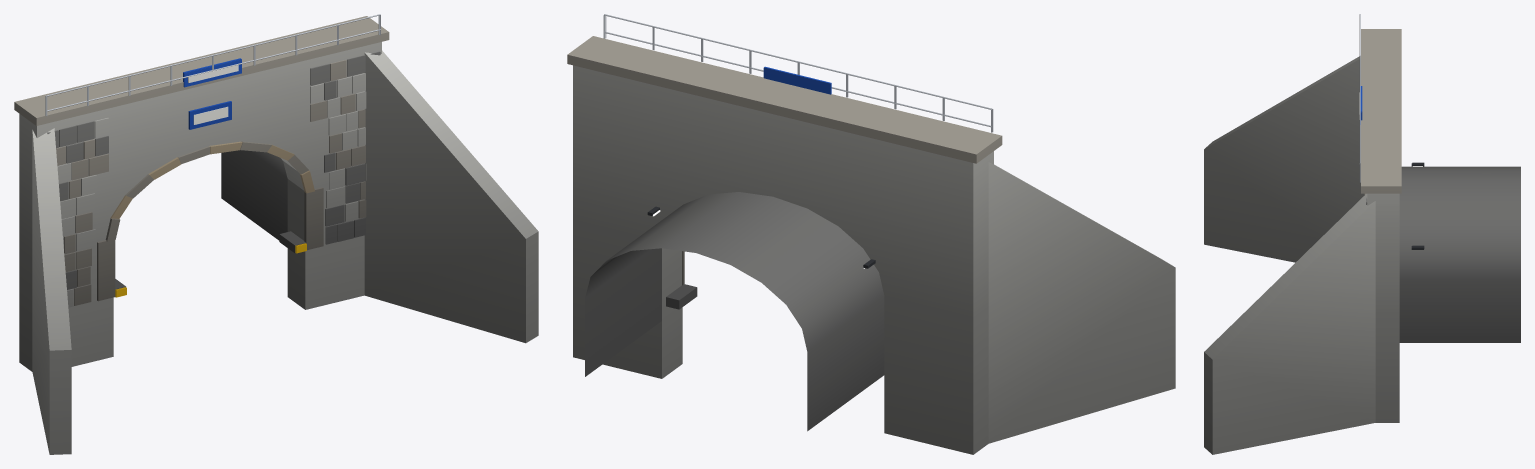
File: Tunnel_Portal.fbx
The picture shows the model from 3 angles, left to right: view 1: azimuth 30°, elevation 25°; view 2: azimuth 150°, elevation 25°; view 3: azimuth 270°, elevation 25°; orthographic projection. The views are drawn at different scales.
Visible parts, largest first — view 1: Tunnel_Portal_LOD0; view 2: Tunnel_Portal_LOD0; view 3: Tunnel_Portal_LOD0.
Boxes of the visible parts, left/top/right/bottom form: Tunnel_Portal_LOD0: left=14, top=14, right=538, bottom=454; Tunnel_Portal_LOD0: left=567, top=14, right=1175, bottom=454; Tunnel_Portal_LOD0: left=1204, top=14, right=1520, bottom=454.
Size of what is drawn, in the model's own units: 25.51 by 14.03 by 15.67.
1 material, 1 textured.
